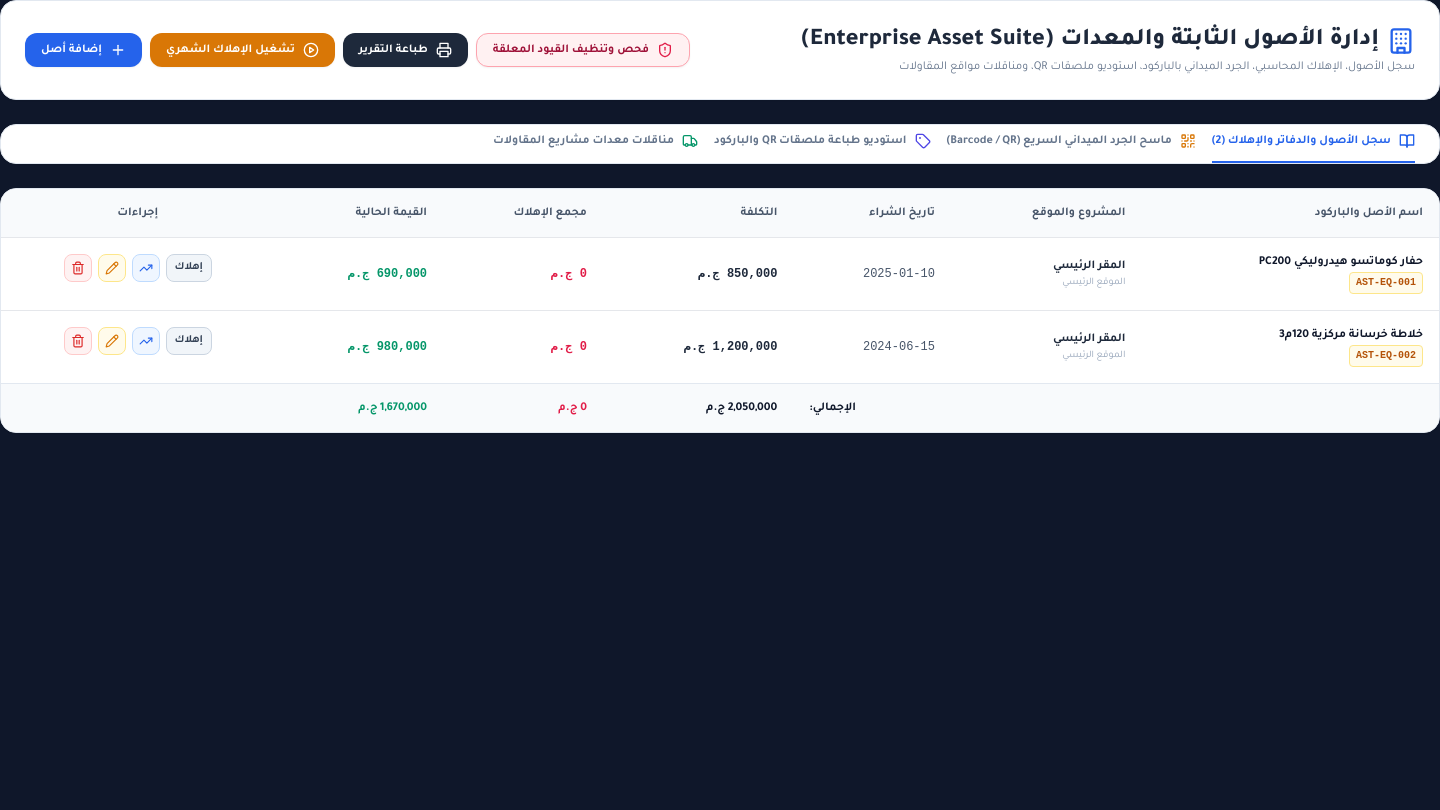
Test: 🏗️ AssetManager (Fixed Assets & Depreciation) Tests › يفتح نافذة تشغيل الإهلاك الشهري ويتيح تحديد تاريخ الإهلاك
The width and height of the screenshot is (1440, 810).
Click the button "تشغيل الإهلاك الشهري".
click(242, 50)  # box x1=150 y1=33 x2=335 y2=67
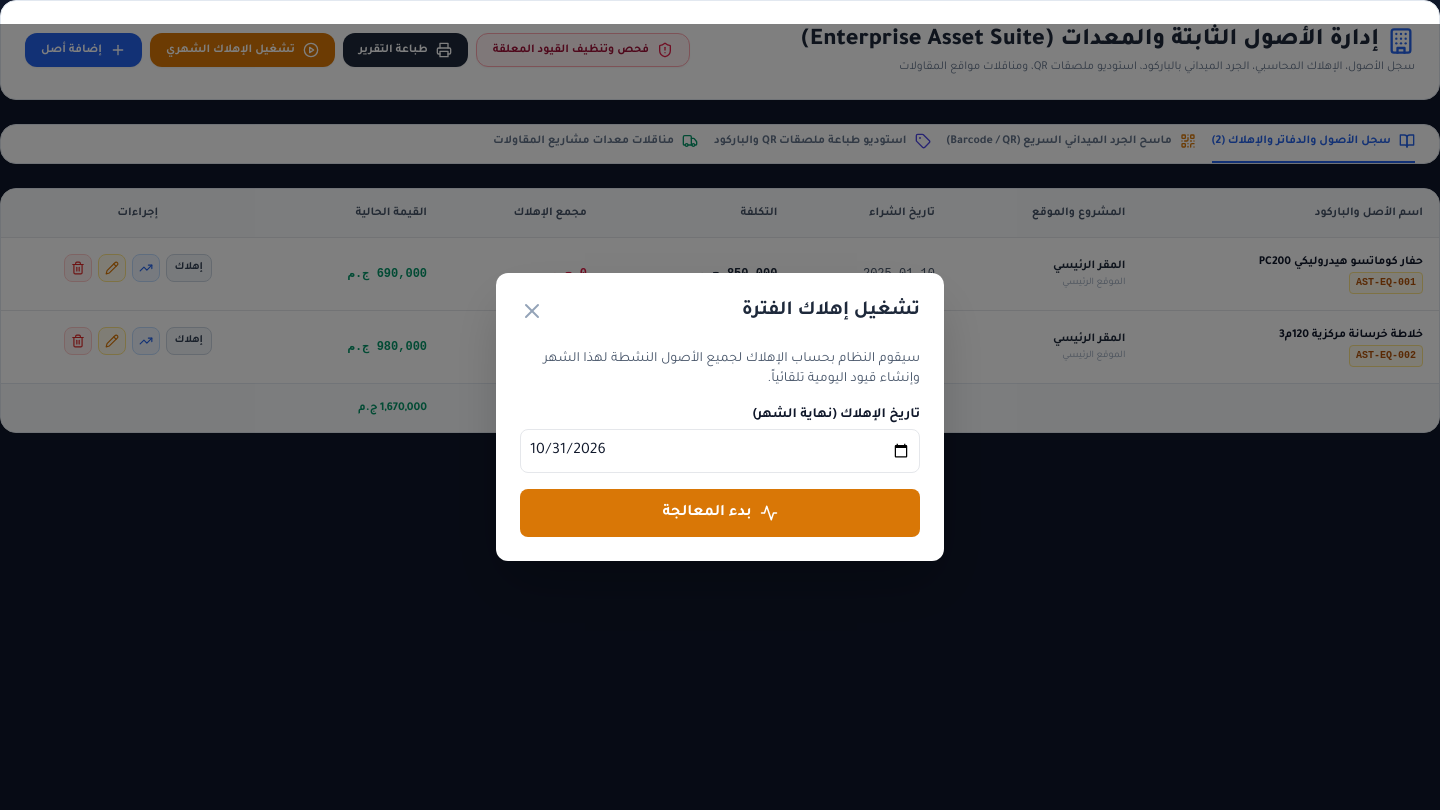
Result: the heading "تشغيل إهلاك الفترة" is shown at x1=742 y1=297 x2=920 y2=325
Result: the text "تاريخ الإهلاك (نهاية الشهر)" is shown at x1=753 y1=408 x2=920 y2=422
Result: the button "بدء المعالجة" is shown at x1=520 y1=489 x2=920 y2=537
